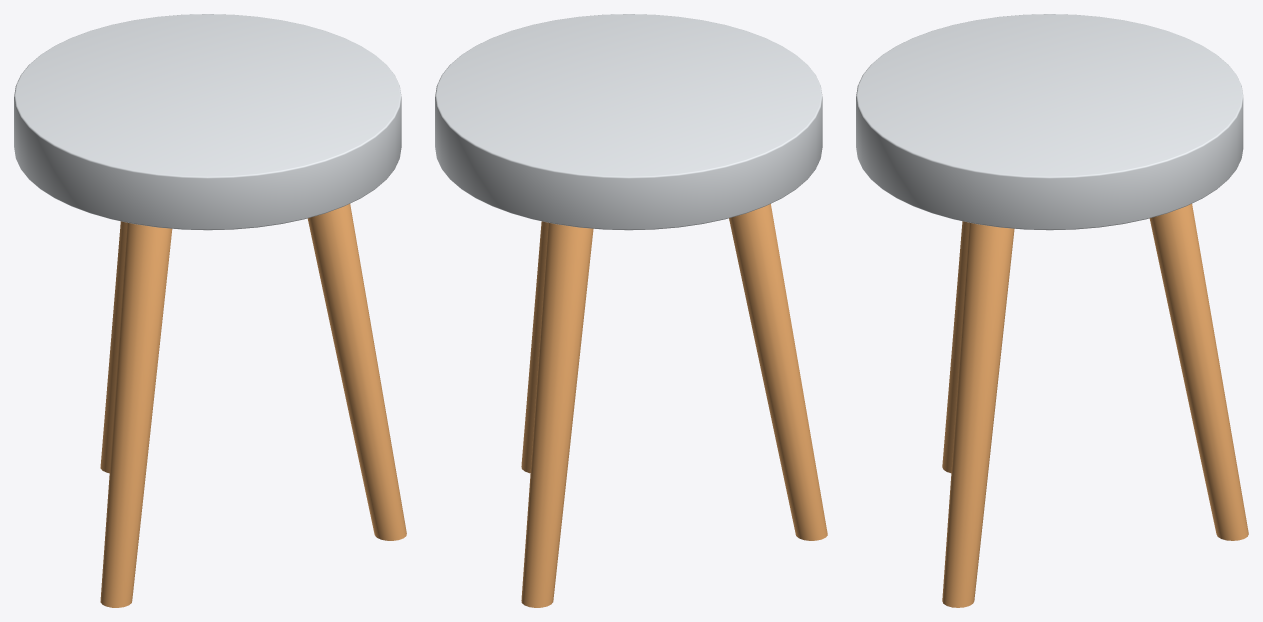
The model's file is mesa_lateral_redonda_tres_pes_branca.glb.
3 renders of one model, left to right at view 1: azimuth 30°, elevation 25°; view 2: azimuth 150°, elevation 25°; view 3: azimuth 270°, elevation 25°, orthographic.
Parts seen in each view (by area): view 1: mesa_lateral_redonda_tres_pes_branca; view 2: mesa_lateral_redonda_tres_pes_branca; view 3: mesa_lateral_redonda_tres_pes_branca.
Part boxes in pixels (<box>): mesa_lateral_redonda_tres_pes_branca: <box>14,14,406,607</box>; mesa_lateral_redonda_tres_pes_branca: <box>435,14,827,607</box>; mesa_lateral_redonda_tres_pes_branca: <box>856,14,1248,607</box>.
Size of the model in its own units: 0.36 by 0.45 by 0.365.
1 material, 1 textured.
